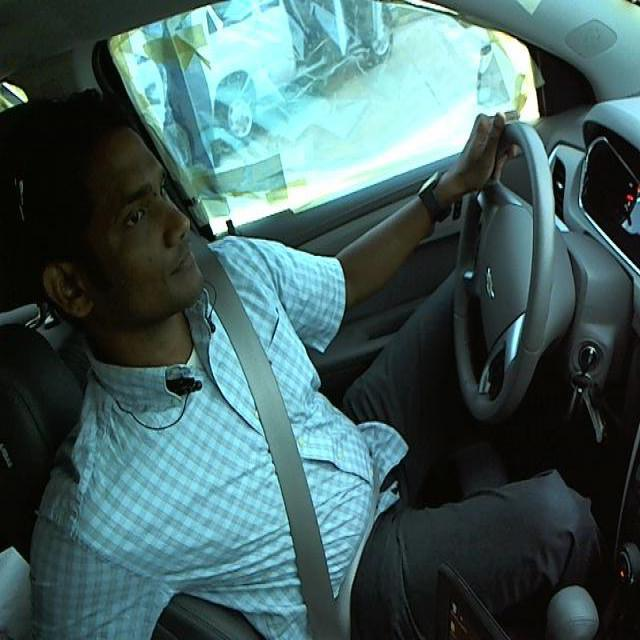seatbelt: (206, 286, 356, 630)
